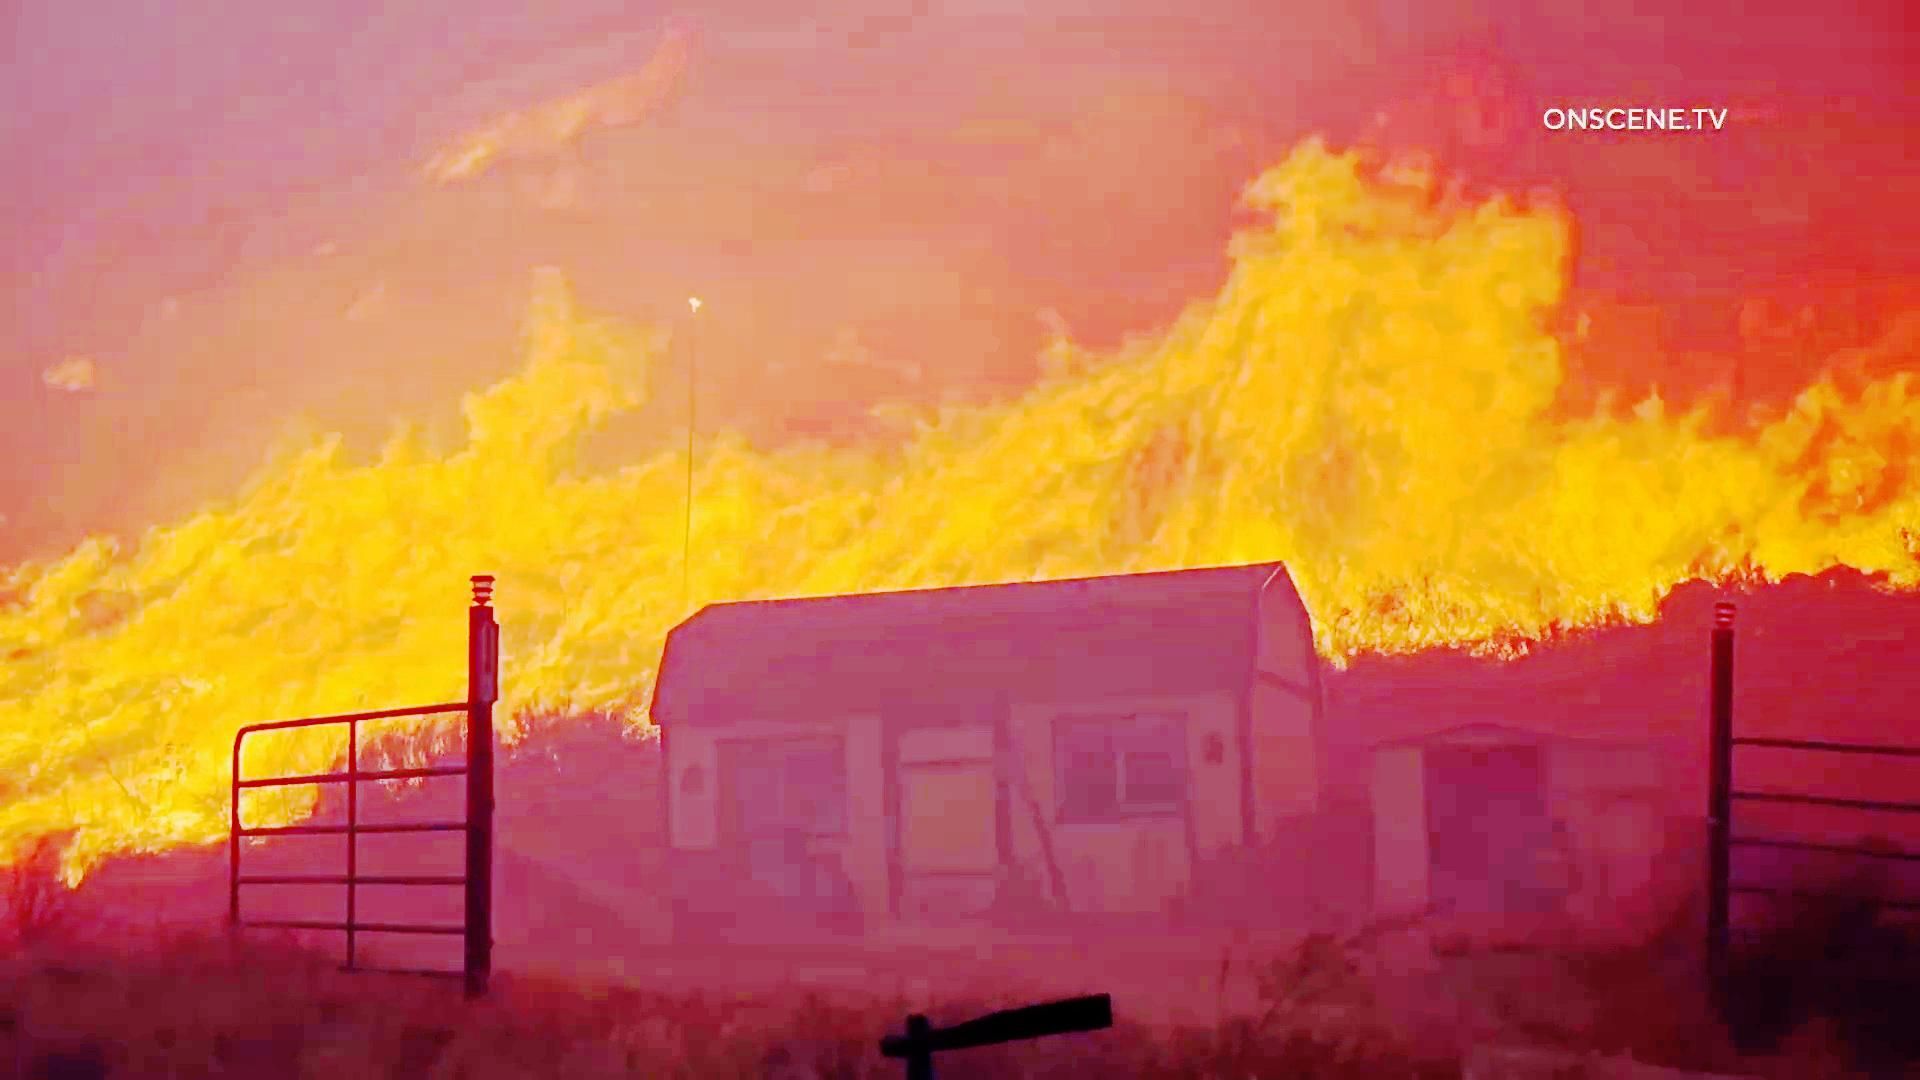fire: (0, 303, 670, 860), (699, 158, 1545, 575), (1305, 295, 1908, 630)
